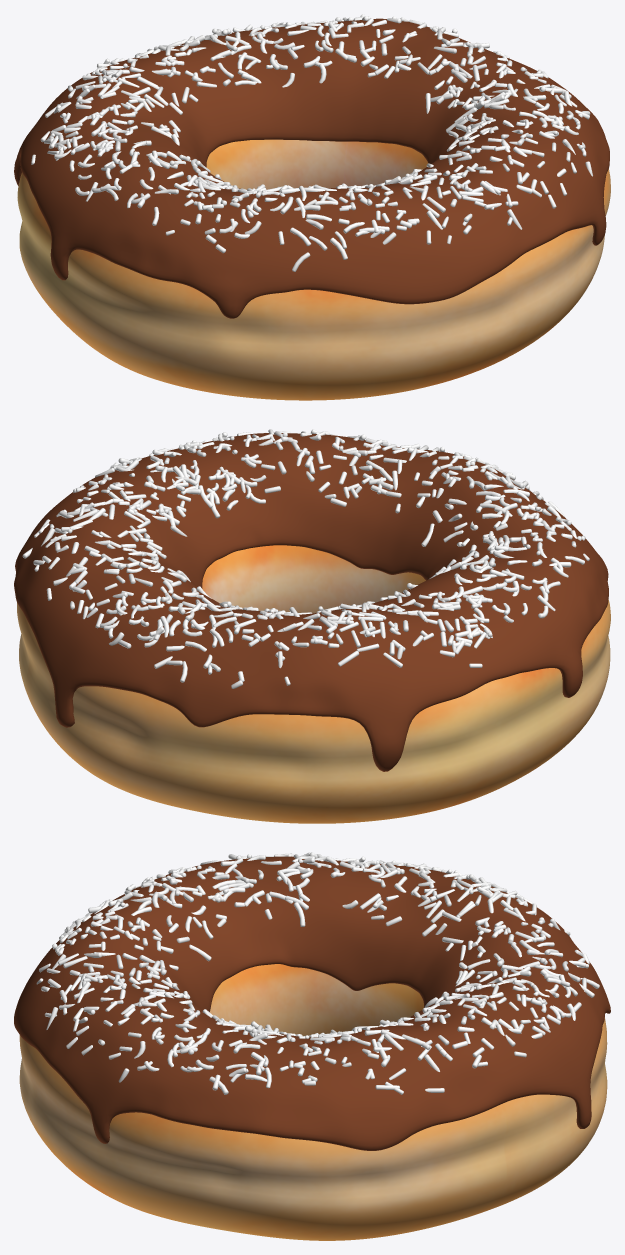
The model's file is Donut.gltf.
The picture shows the model from 3 angles, top to bottom: view 1: azimuth 30°, elevation 25°; view 2: azimuth 150°, elevation 25°; view 3: azimuth 270°, elevation 25°; orthographic projection.
Parts seen in each view (by area): view 1: Es, Donat; view 2: Es, Donat; view 3: Es, Donat.
Boxes of the visible parts, bbox=[...] form: Es: bbox=[14, 18, 609, 318]; Donat: bbox=[17, 139, 610, 400]; Es: bbox=[14, 433, 608, 771]; Donat: bbox=[17, 545, 610, 823]; Es: bbox=[14, 856, 610, 1150]; Donat: bbox=[19, 964, 607, 1240].
Bounding box in the file's own units: 0.1496 × 0.0563 × 0.1458.
Materials: 3 (1 with a texture image).
